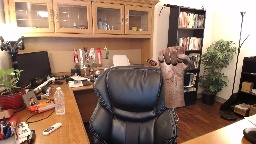Pugno: (155, 44, 193, 78)
